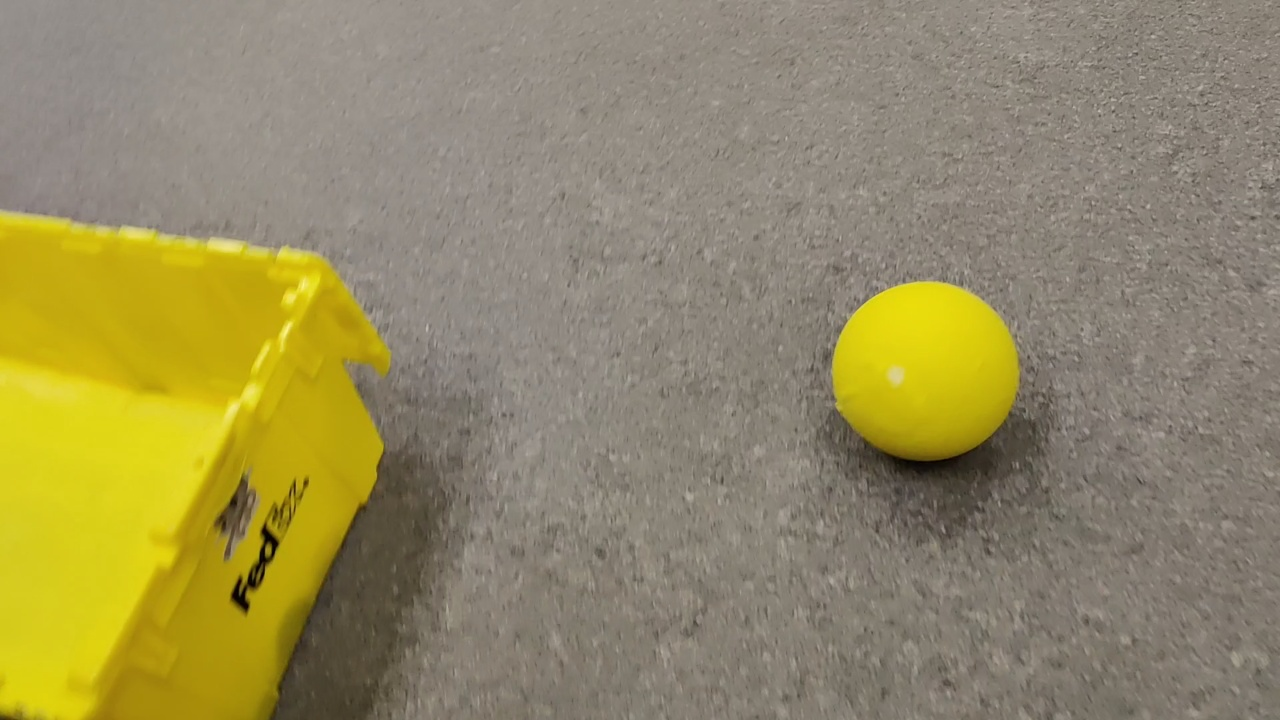Ball: (833, 281, 1027, 464)
